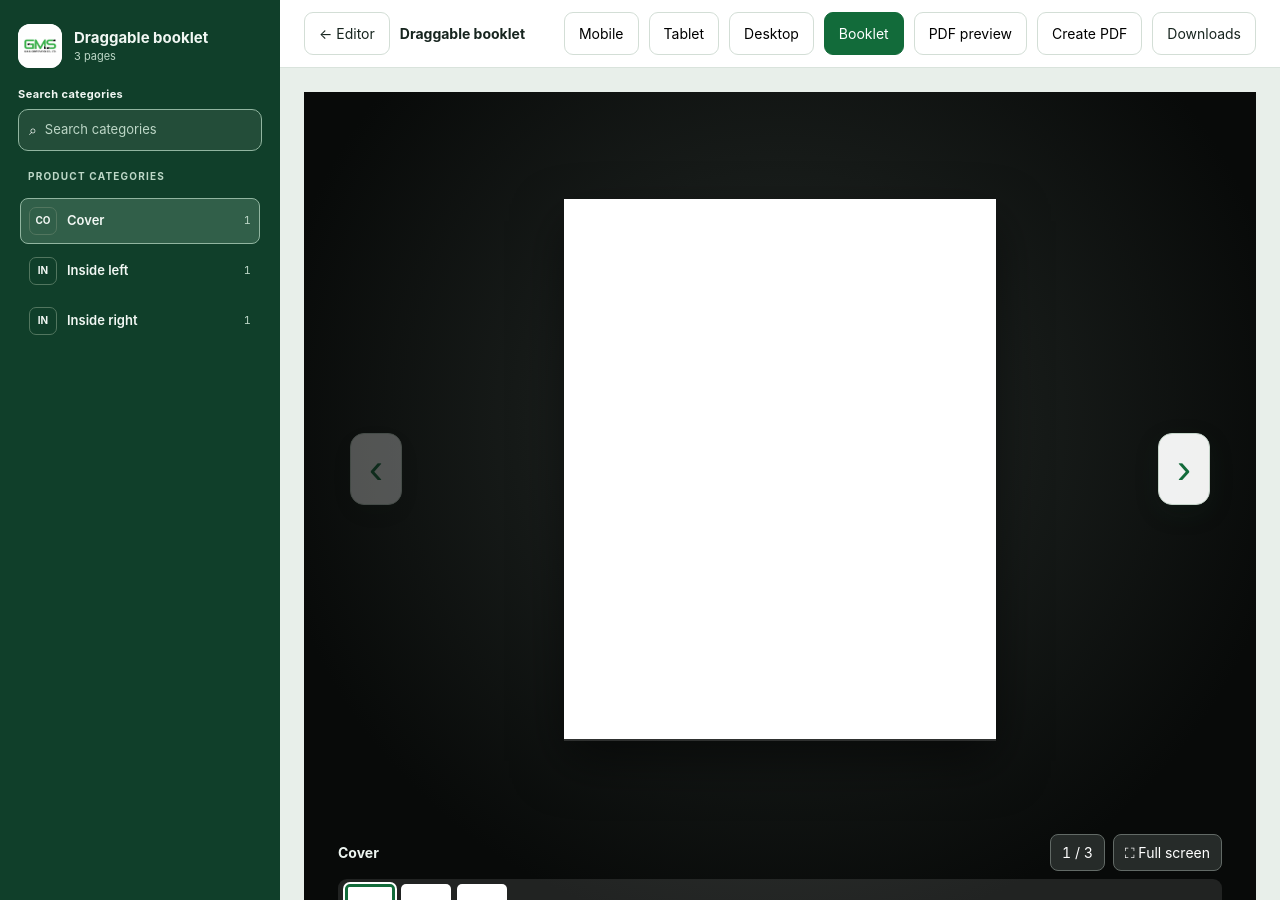
Test case: StudioPreview › turns booklet spreads by dragging the pages
The width and height of the screenshot is (1280, 900).
Step 1. Press the mouse on the element named "Drag booklet pages left or right to turn" → (780, 469), box [564,199,996,739]
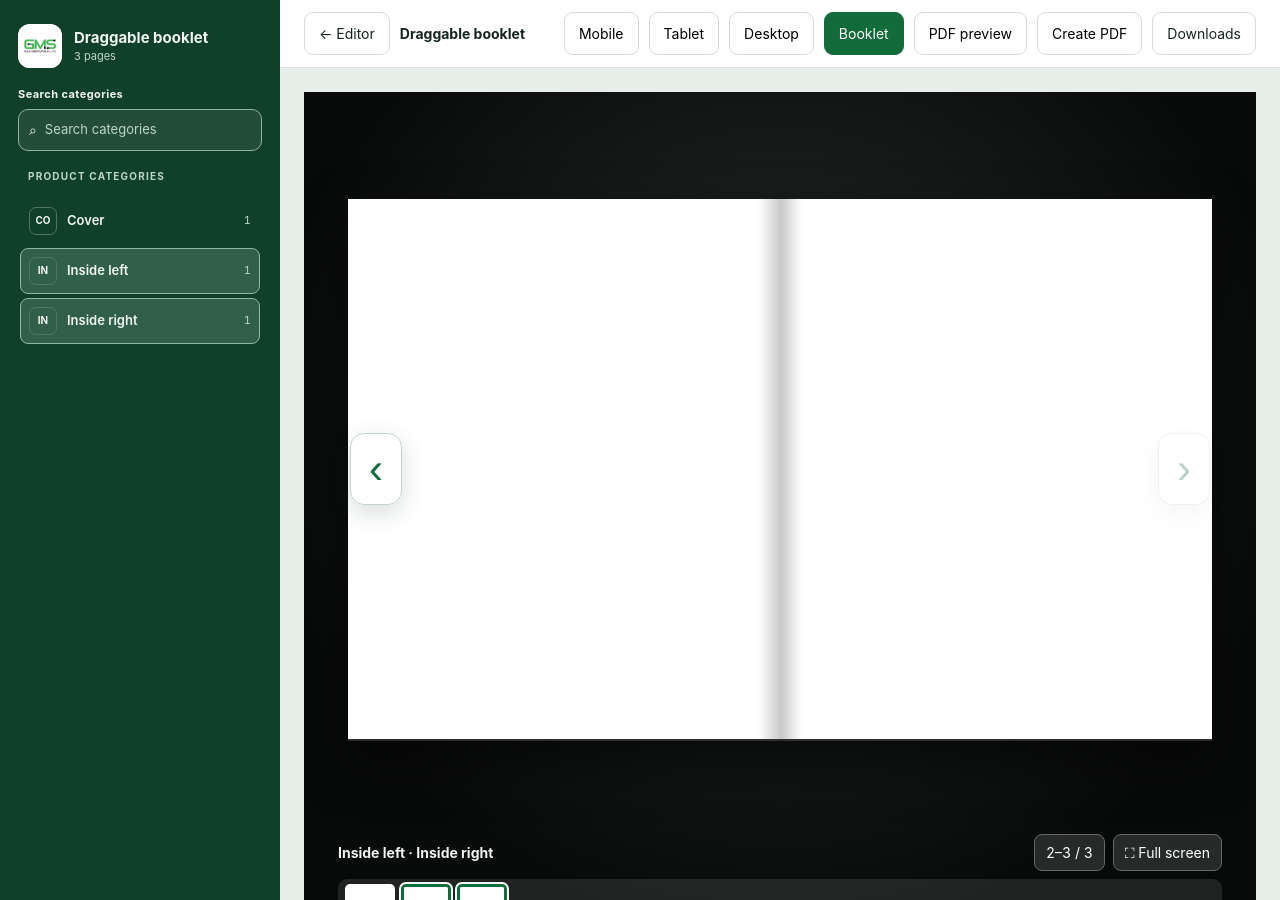
Now the text "2–3 / 3" is shown, box [1034,834,1105,871]
